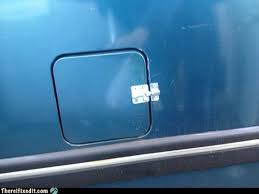closed: (45, 45, 167, 145)
